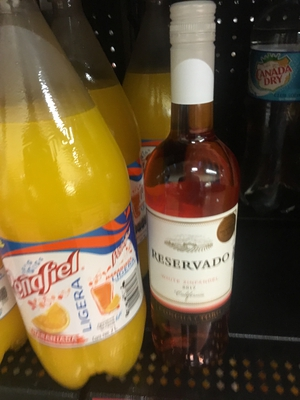reservado white zinfandel: (135, 6, 250, 349)
